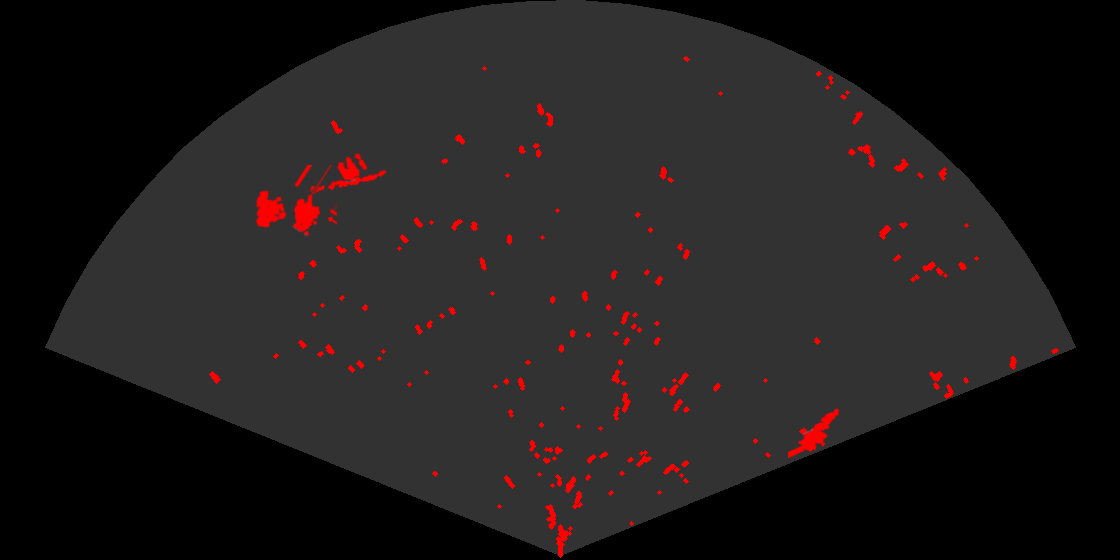ball: (336, 151, 369, 184)
cage: (254, 165, 337, 238)
chain: (307, 169, 389, 196)
frogman: (788, 407, 841, 460)
